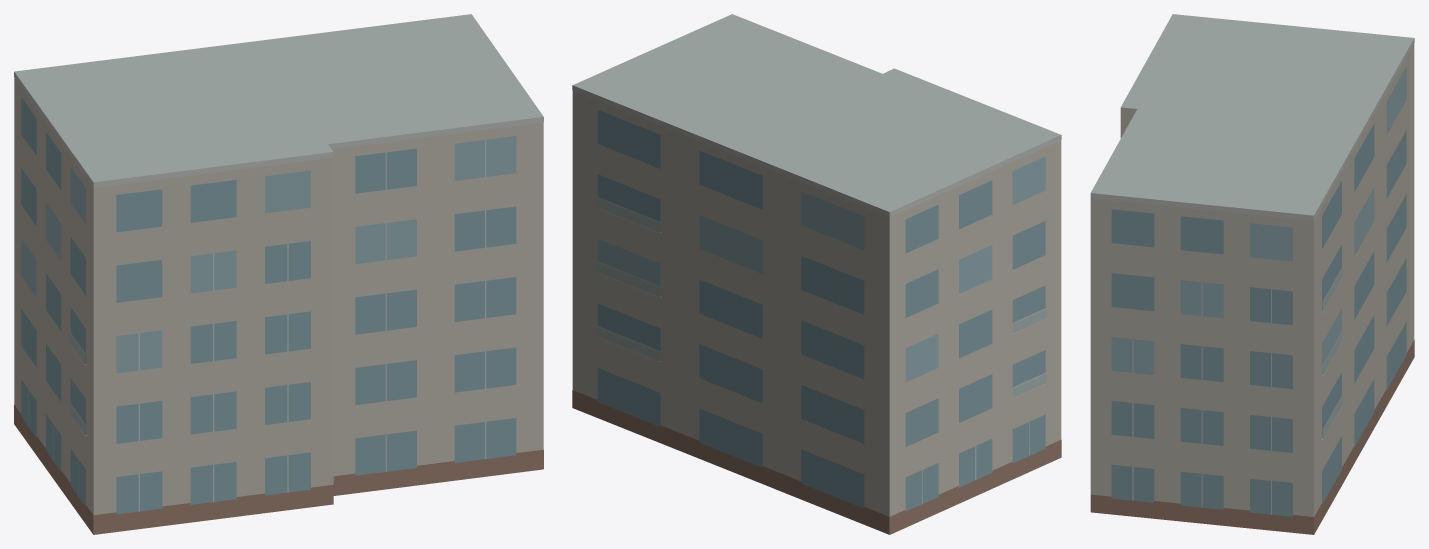
Rendered from survey-upis-32529659.glb.
The picture shows the model from 3 angles, left to right: view 1: azimuth 30°, elevation 25°; view 2: azimuth 150°, elevation 25°; view 3: azimuth 270°, elevation 25°; orthographic projection. The views are drawn at different scales.
Visible parts, largest first — view 1: survey-upis-32529659.tmp; view 2: survey-upis-32529659.tmp; view 3: survey-upis-32529659.tmp.
Part boxes in pixels (x1,y1,x2,y2): survey-upis-32529659.tmp: (14, 14, 543, 534); survey-upis-32529659.tmp: (572, 14, 1061, 534); survey-upis-32529659.tmp: (1090, 14, 1414, 534).
Bounding box in the file's own units: 20.66 × 15.25 × 14.03.
